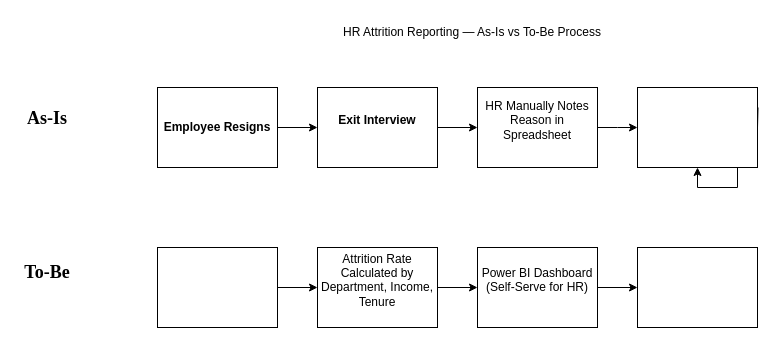
This 783x355 diagram has some shape labels left out. The centre of each missing label's shape, as x and y in pixels:
"HR Data Cleaned & Structured (SQL)" goes at point 217,287.
"No Company-Wide Attrition Visibility" goes at point 697,127.
"Retention Budget Targeted at High-Risk Groups" goes at point 697,287.
